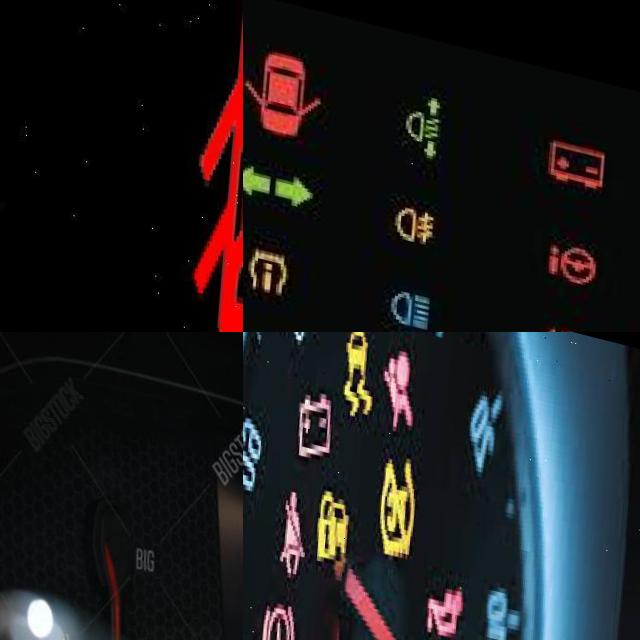Electronic Power Steering Warning: (546, 219, 603, 273)
Seat Belt: (283, 481, 313, 572)
